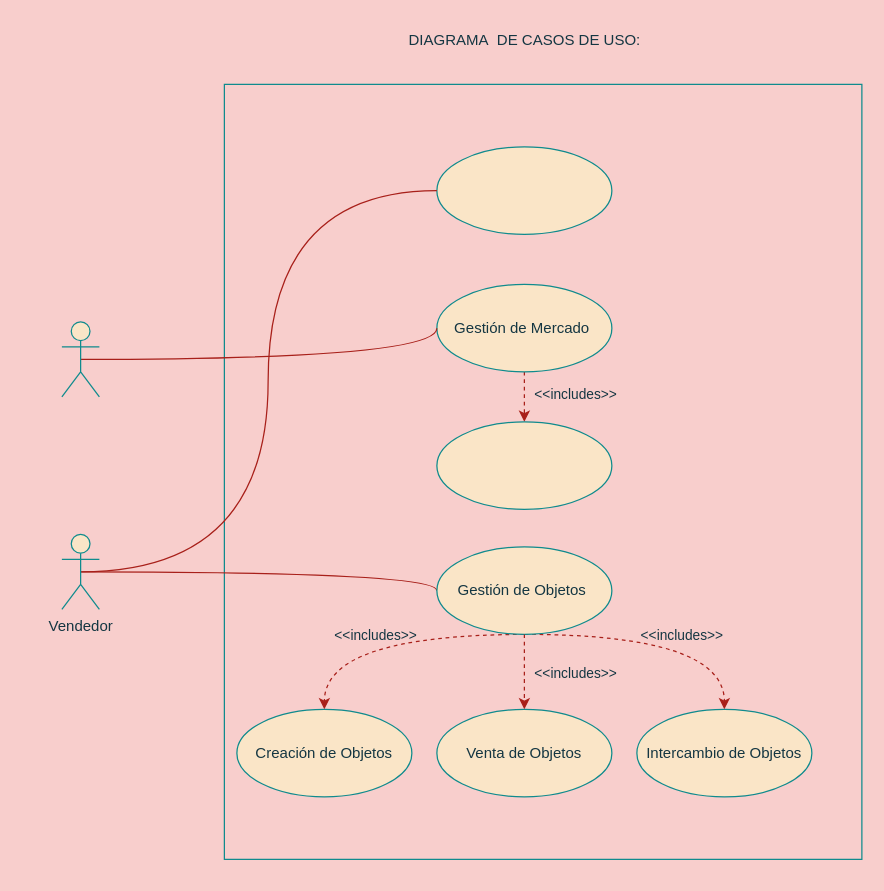
The diagram is 884 pixels wide and 891 high, and some of its shapes have lost their labels. Each missing label, with the centre of its shape:
Consulta de objetos a la venta: point 524,465
Gestión de de cuenta: point 524,190
Usuario sin wallet: point 80,359
